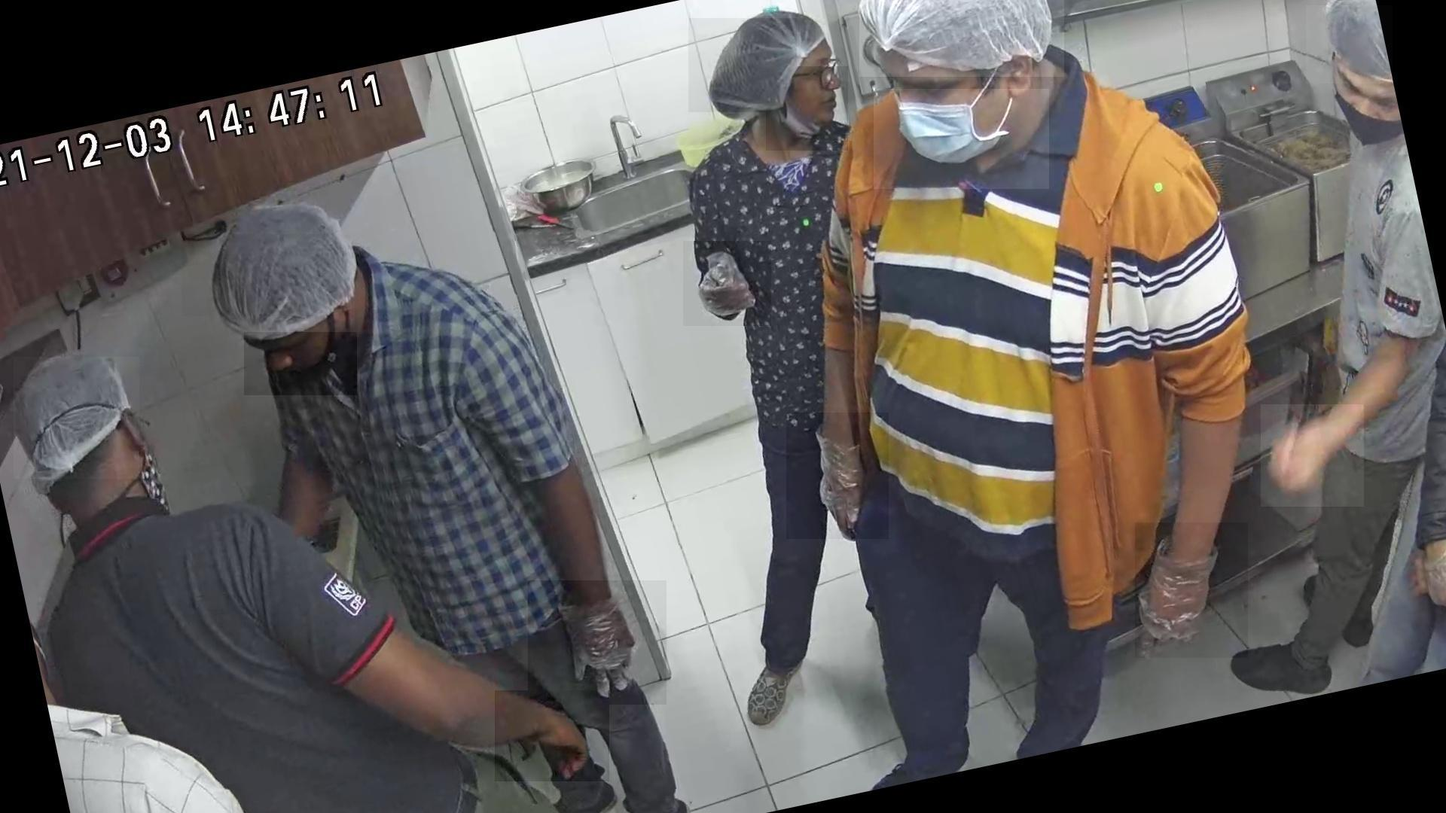apron: (528, 580, 667, 705), (1136, 523, 1249, 658), (787, 413, 889, 539), (684, 242, 772, 327)
gloves: (859, 0, 1064, 77), (14, 357, 139, 479), (182, 234, 350, 317), (689, 18, 797, 113), (1306, 6, 1393, 85)
mask: (874, 89, 1050, 189), (1319, 84, 1414, 164)
no_apron: (1261, 405, 1364, 507), (495, 691, 610, 782)
no_hairnet: (244, 332, 357, 395), (767, 66, 849, 151)
